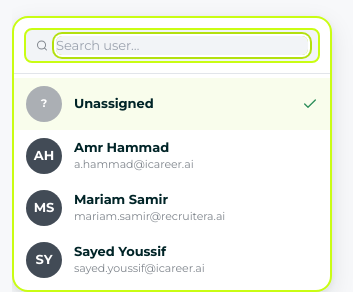
it: OwnerPickerPopover › shows empty state when no match
The width and height of the screenshot is (353, 292).
(page scrolled)
In the field with placeholder "Search user…": x=182, y=45 [56,36,308,55], type "zzzzzz"
(page scrolled)
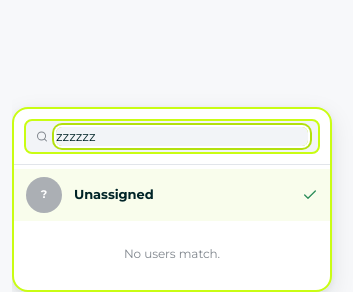
Check: the text "No users match." is shown, box [124,246,220,261]
